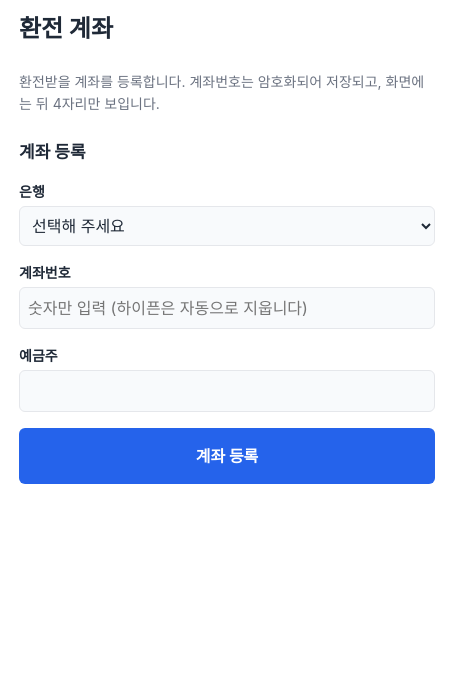
Test case: 환전 계좌 화면 (#30 AC4) › should show the masked number after registering
Step 1. Select "신한은행" in the dropdown labelled "은행" → (227, 226), box [19,206,435,246]
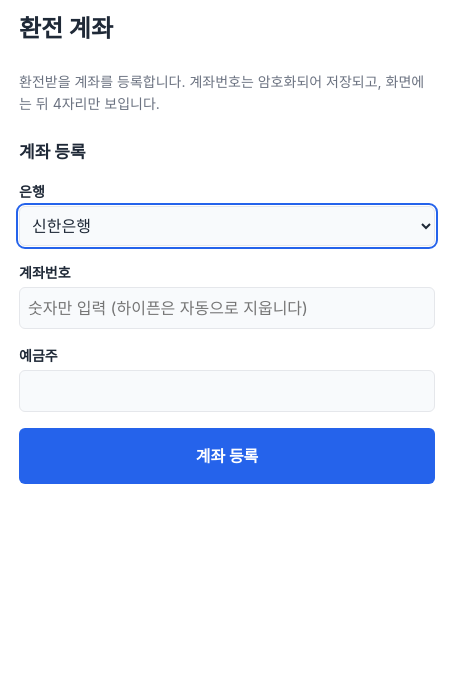
Step 2. Type "110-123-45678" into the field labelled "계좌번호" → (227, 308), box [19,287,435,329]
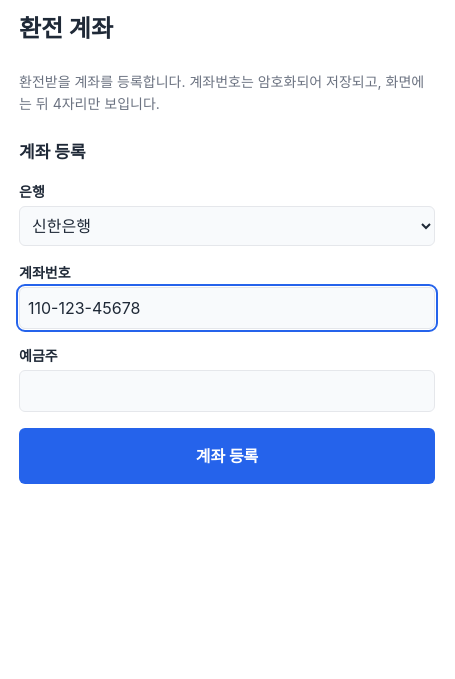
Step 3. Type "김구직" into the field labelled "예금주" → (227, 391), box [19,370,435,412]
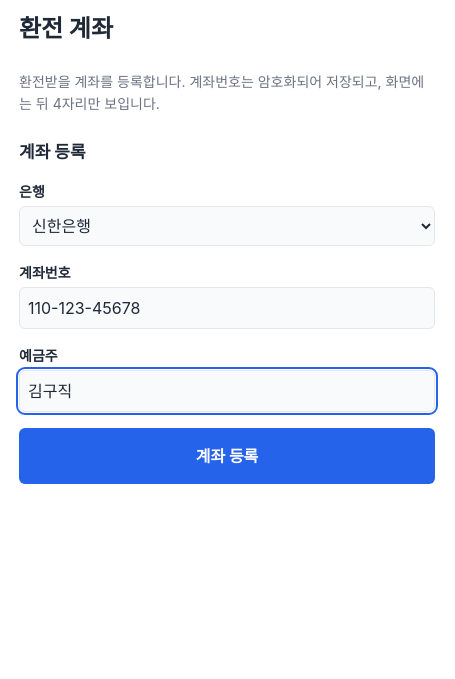
Step 4. Click the button "계좌 등록" → (227, 456), box [19,428,435,484]
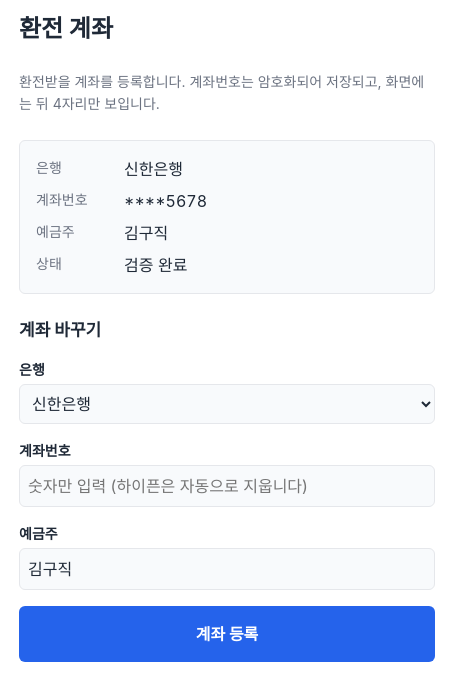
Expected: the text "****5678" is shown, [124,191,207,211]
Expected: the text "검증 완료" is shown, [124,255,187,275]
